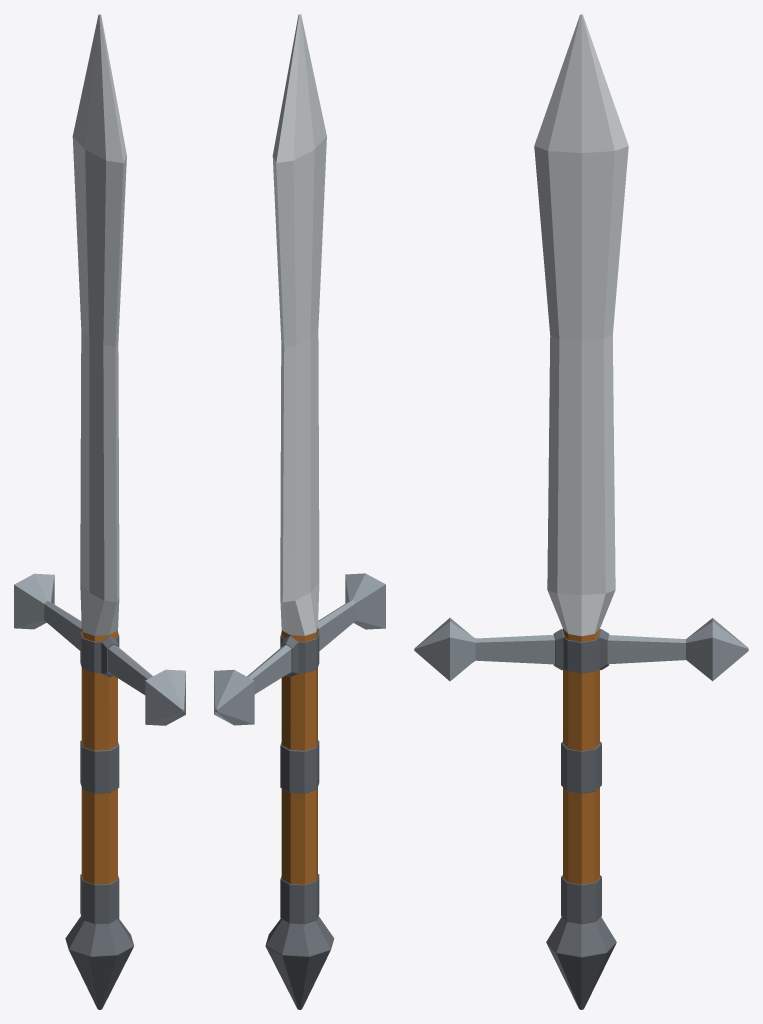
File: sword.glb
3 renders of one model, left to right at view 1: azimuth 30°, elevation 25°; view 2: azimuth 150°, elevation 25°; view 3: azimuth 270°, elevation 25°, orthographic.
Parts seen in each view (by area): view 1: blade, shaft, handle, pommel, middle_band, bottom_band, top_band; view 2: blade, shaft, handle, pommel, middle_band, bottom_band, top_band; view 3: blade, handle, shaft, pommel, top_band, middle_band, bottom_band.
Boxes of the visible parts, x1,y1,x2,y2 form: blade: [72, 14, 126, 635]; shaft: [81, 627, 117, 884]; handle: [14, 573, 185, 725]; pommel: [65, 916, 133, 1009]; middle_band: [80, 740, 119, 793]; bottom_band: [80, 874, 119, 924]; top_band: [80, 629, 119, 677]; blade: [272, 14, 326, 635]; shaft: [281, 627, 317, 884]; handle: [214, 573, 385, 725]; pommel: [265, 916, 334, 1009]; middle_band: [280, 740, 319, 793]; bottom_band: [280, 874, 319, 924]; top_band: [280, 628, 319, 677]; blade: [534, 14, 628, 636]; handle: [414, 618, 748, 681]; shaft: [563, 629, 599, 884]; pommel: [546, 917, 616, 1009]; top_band: [553, 629, 609, 673]; middle_band: [561, 741, 601, 793]; bottom_band: [561, 875, 601, 924].
Bounding box in the file's own units: 0.2832 × 4.35 × 1.32.
Materials: 1 (1 with a texture image).
